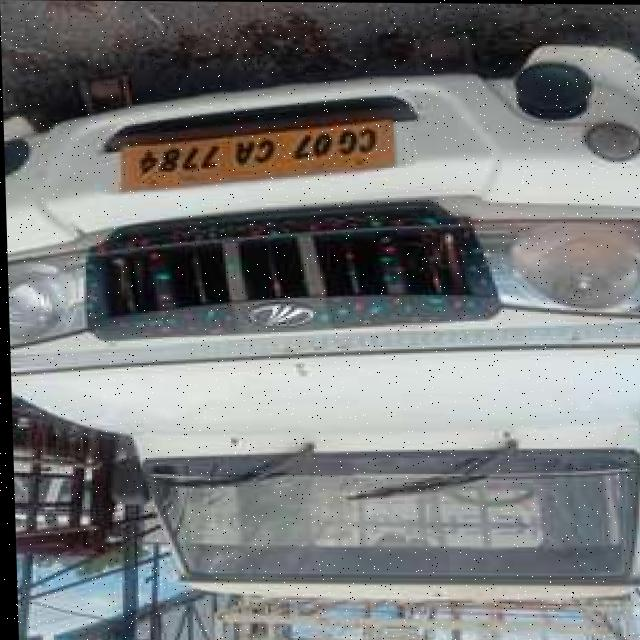plate: (116, 117, 397, 196)
